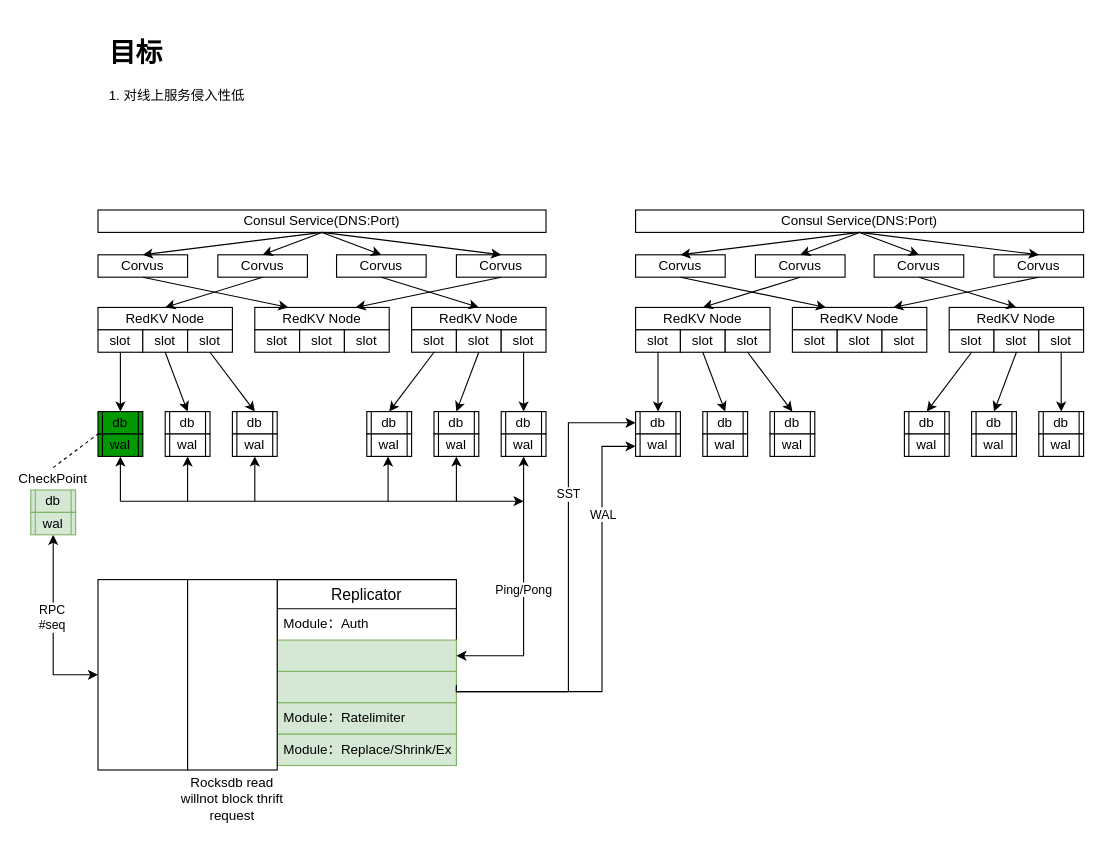
Image size: 1103x842. Some labels were removed from this diagram. The shapes that lost their labels are listed below. From the top down, each one's centre as x and y in pixels, then its label:
At (x=142, y=674): "Thrift Server".
At (x=231, y=674): "Work TheadPool".
At (x=366, y=655): "Module：Monitor/WebUI".
At (x=366, y=686): "Module：DataSync".
